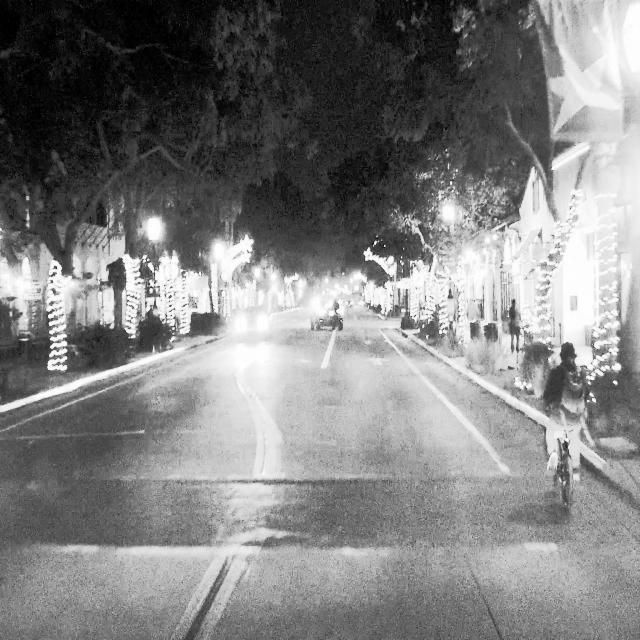Bicycle: (540, 388, 576, 510)
Light: (622, 1, 640, 91)
Person: (541, 342, 582, 450)
Tree: (40, 61, 82, 377), (584, 109, 622, 418)
